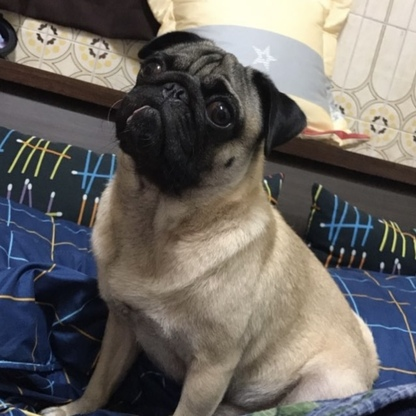Pug: (35, 28, 388, 416)
